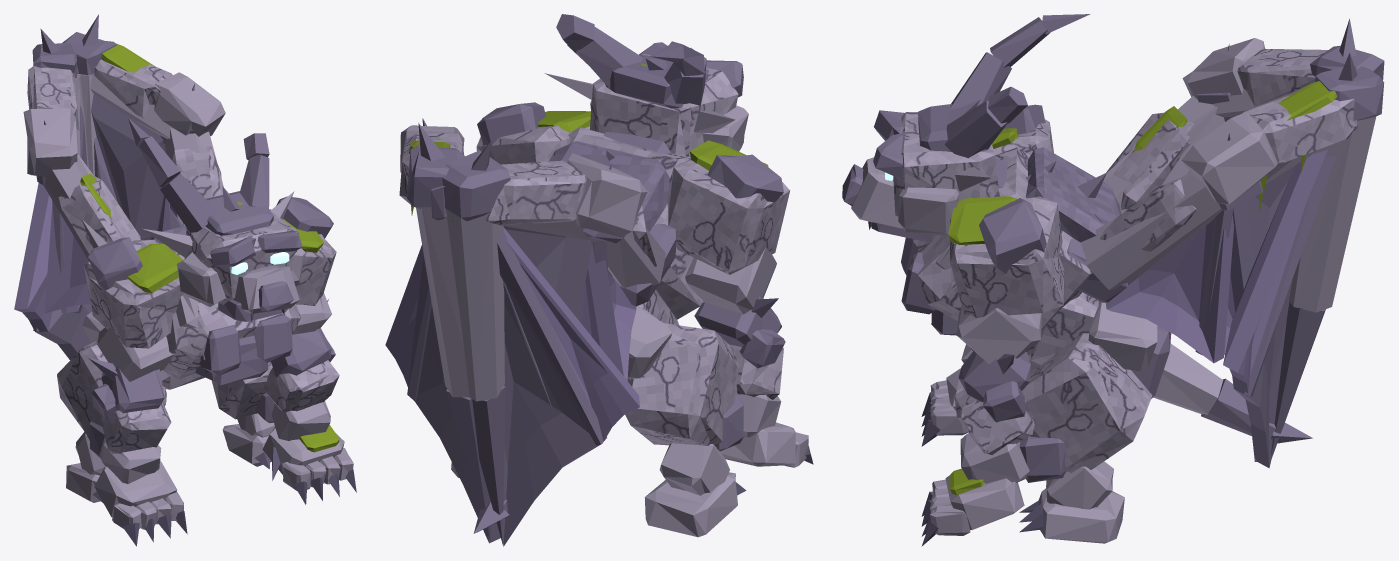
Rendered from gargoyle_statue_static.fbx.
3 renders of one model, left to right at view 1: azimuth 30°, elevation 25°; view 2: azimuth 150°, elevation 25°; view 3: azimuth 270°, elevation 25°, orthographic. The views are drawn at different scales.
Parts seen in each view (by area): view 1: Gargoyle_Static_StatuePose; view 2: Gargoyle_Static_StatuePose; view 3: Gargoyle_Static_StatuePose.
Boxes of the visible parts, x1,y1,x2,y2 form: Gargoyle_Static_StatuePose: [14, 14, 356, 546]; Gargoyle_Static_StatuePose: [385, 14, 813, 546]; Gargoyle_Static_StatuePose: [842, 14, 1384, 546].
Bounding box in the file's own units: 520 × 766 × 834.
2 materials, 1 textured.
